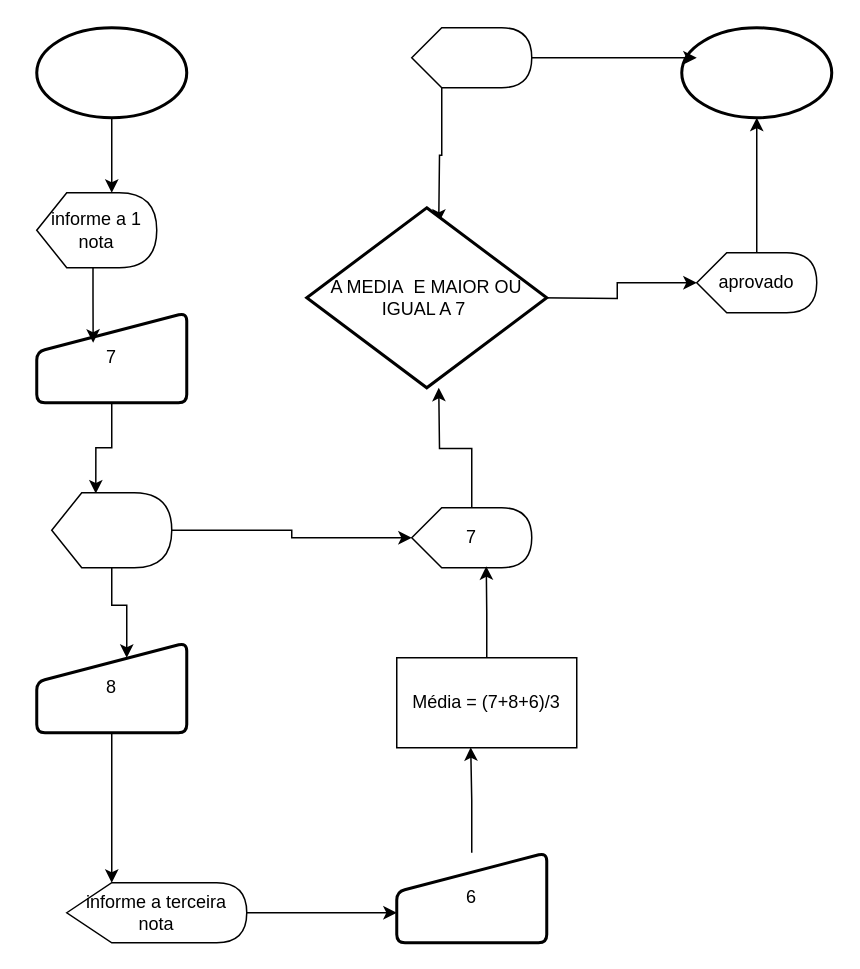
This 860x969 diagram has some shape labels left out. The centre of each missing label's shape, as x and y in pixels:
"fim" goes at point (756, 72).
"informe a segunda nota" goes at point (111, 529).
"inincio" goes at point (111, 72).
"reprovado" goes at point (471, 57).
